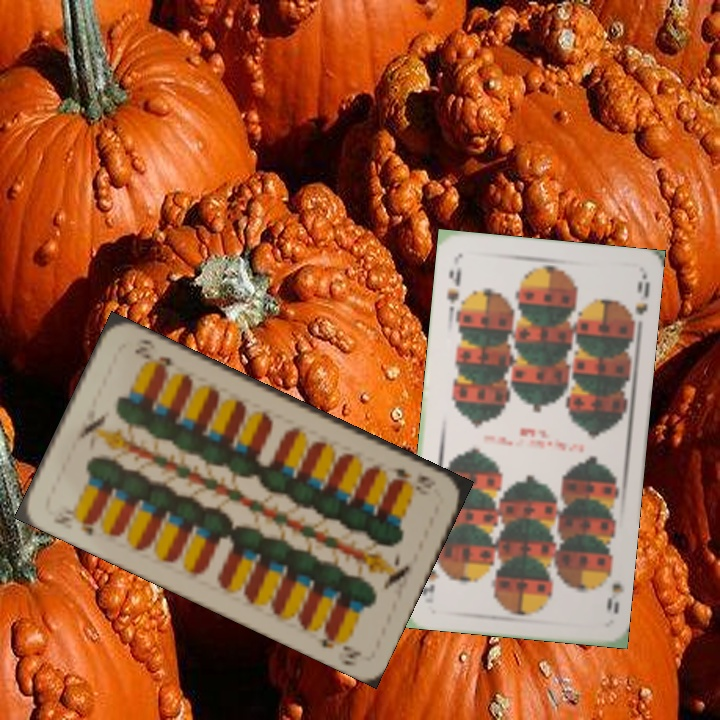E10: (49, 507, 99, 539), (382, 463, 433, 486)
S9: (598, 562, 625, 616), (443, 263, 464, 306)
